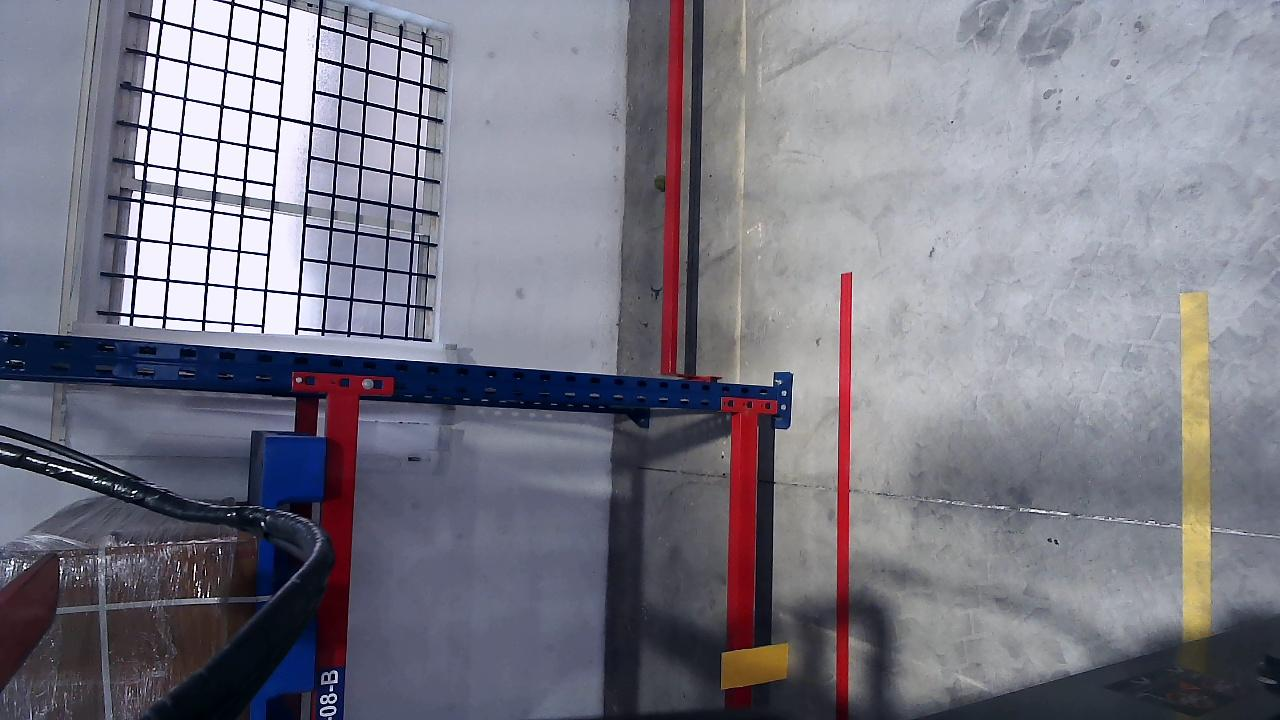h_rack: (315, 391, 360, 717), (728, 411, 761, 711)
orange_strip: (720, 642, 789, 689)
red_line: (835, 269, 854, 719)
yellow_line: (1180, 298, 1213, 635)
